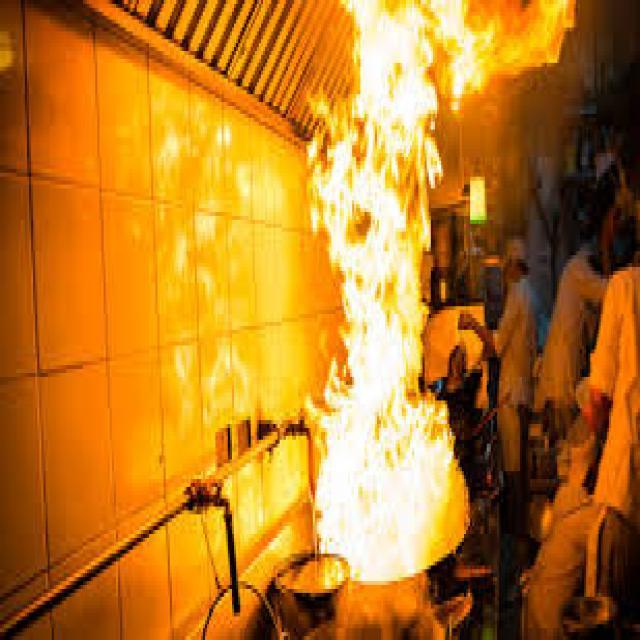Fire: (302, 0, 576, 581)
